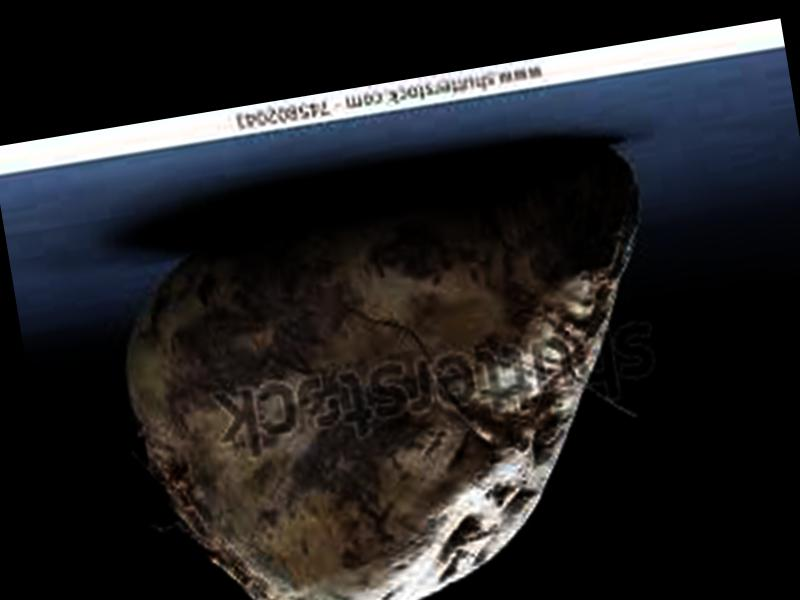Beet: (95, 147, 690, 600)
